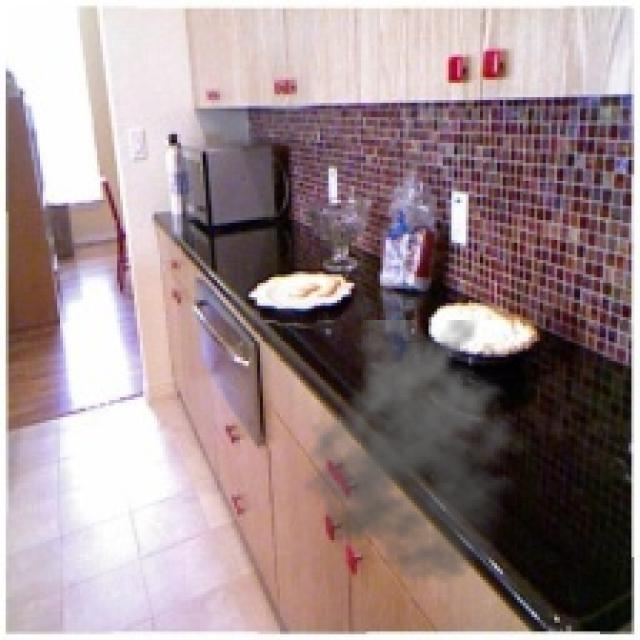smoke: (300, 320, 543, 583)
